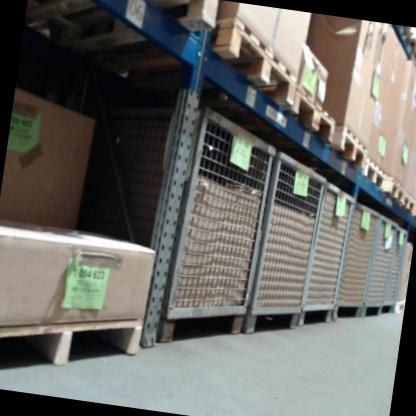pallet: (0, 294, 146, 396), (206, 15, 305, 111), (287, 79, 342, 147), (140, 0, 219, 42), (331, 122, 372, 176), (361, 155, 391, 193), (385, 176, 406, 207)
stillage: (45, 75, 283, 356), (240, 136, 332, 341), (298, 169, 359, 329), (330, 200, 383, 329), (360, 207, 402, 322), (378, 222, 411, 316)
